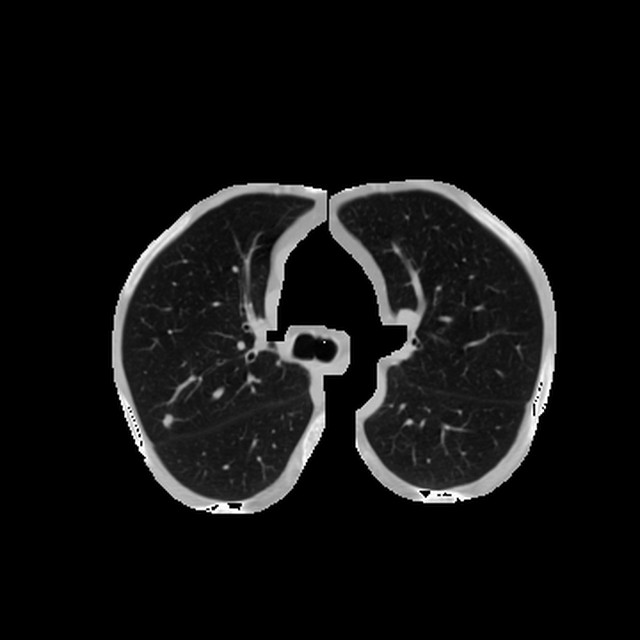PN: (160, 414, 174, 428)
